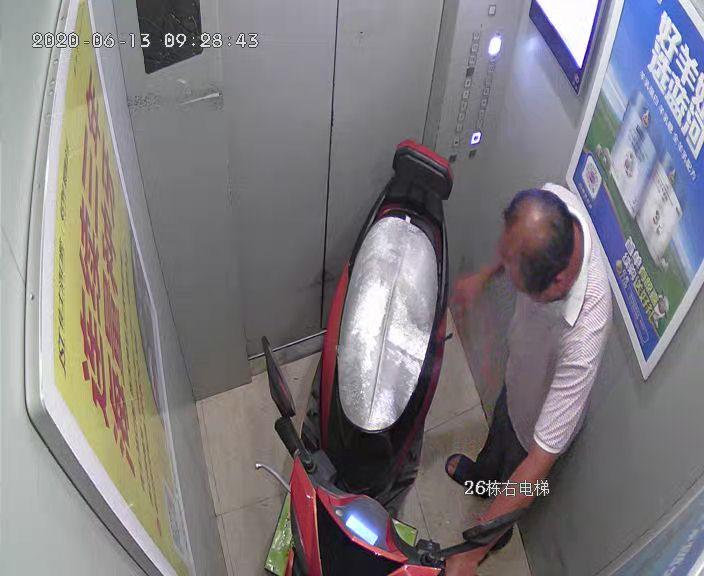Electric-bicycle: (291, 143, 449, 574)
